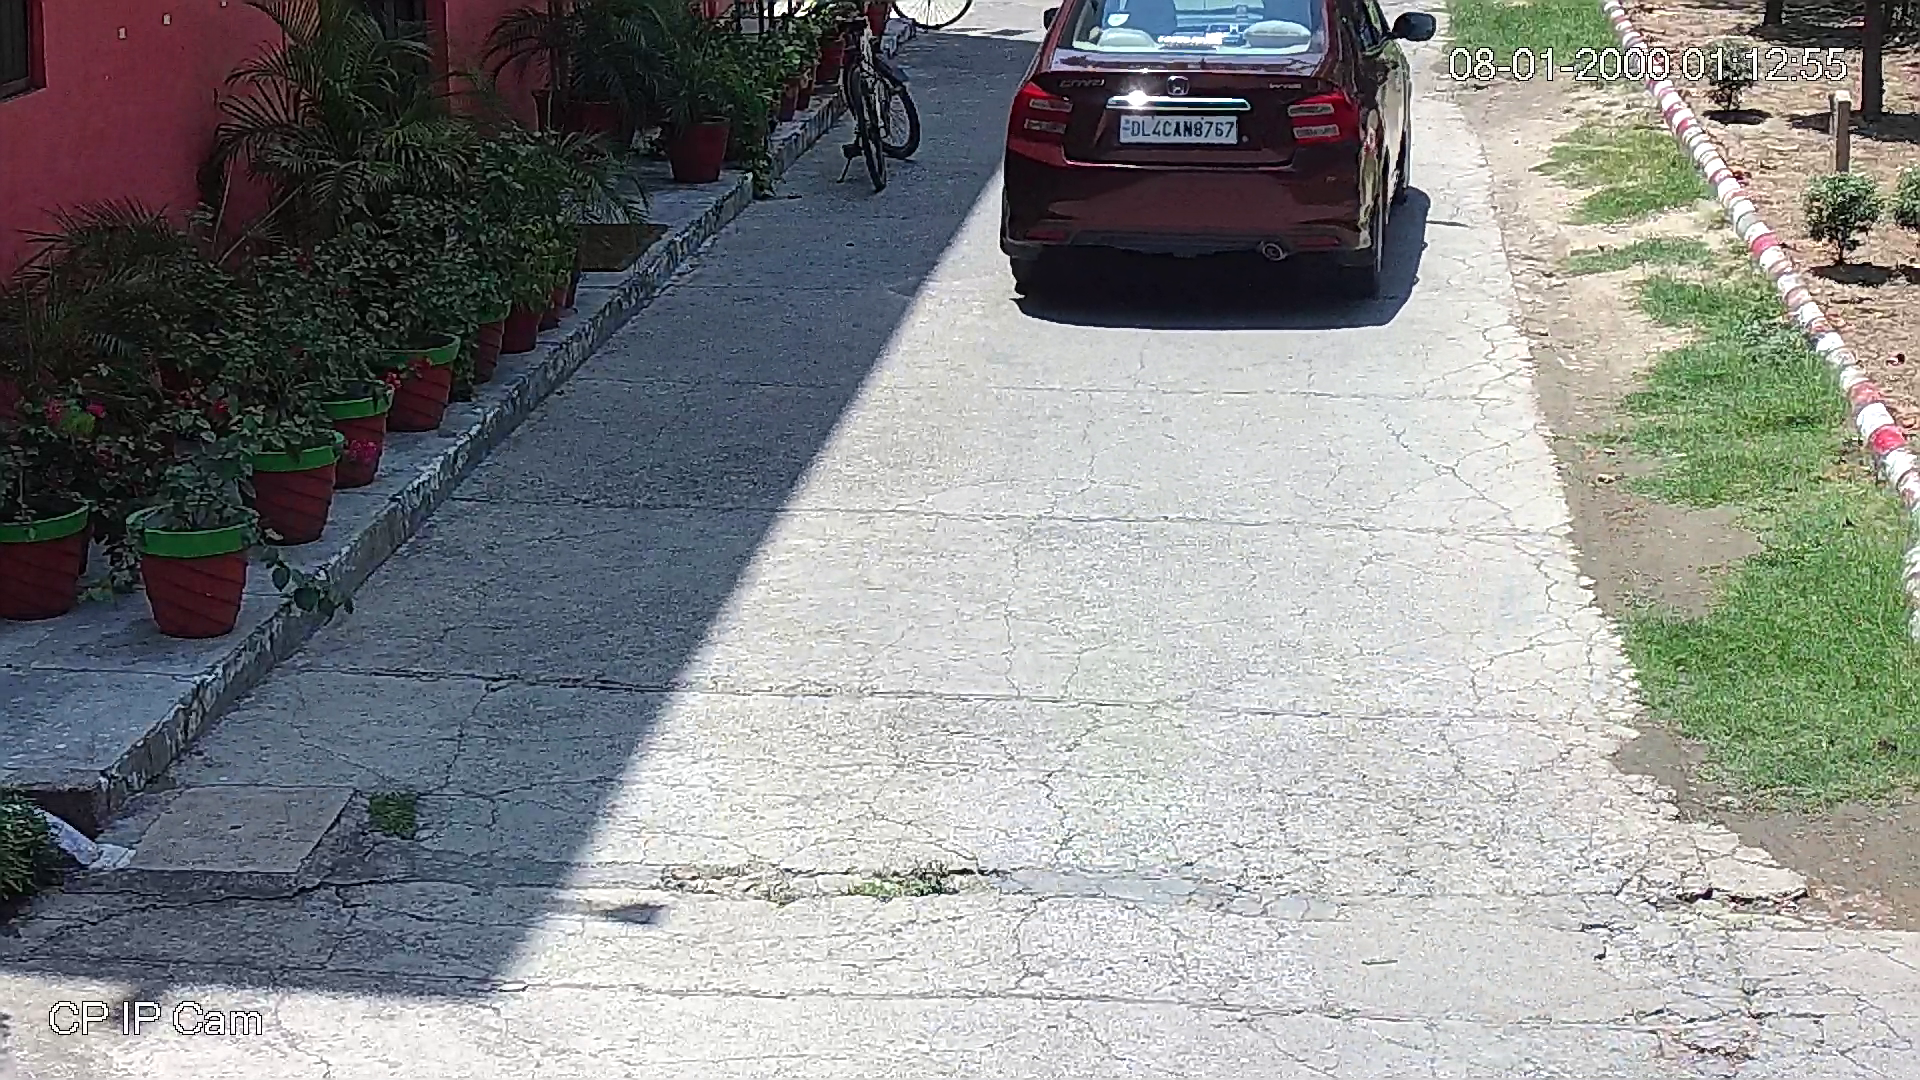plate: (1114, 109, 1244, 146)
